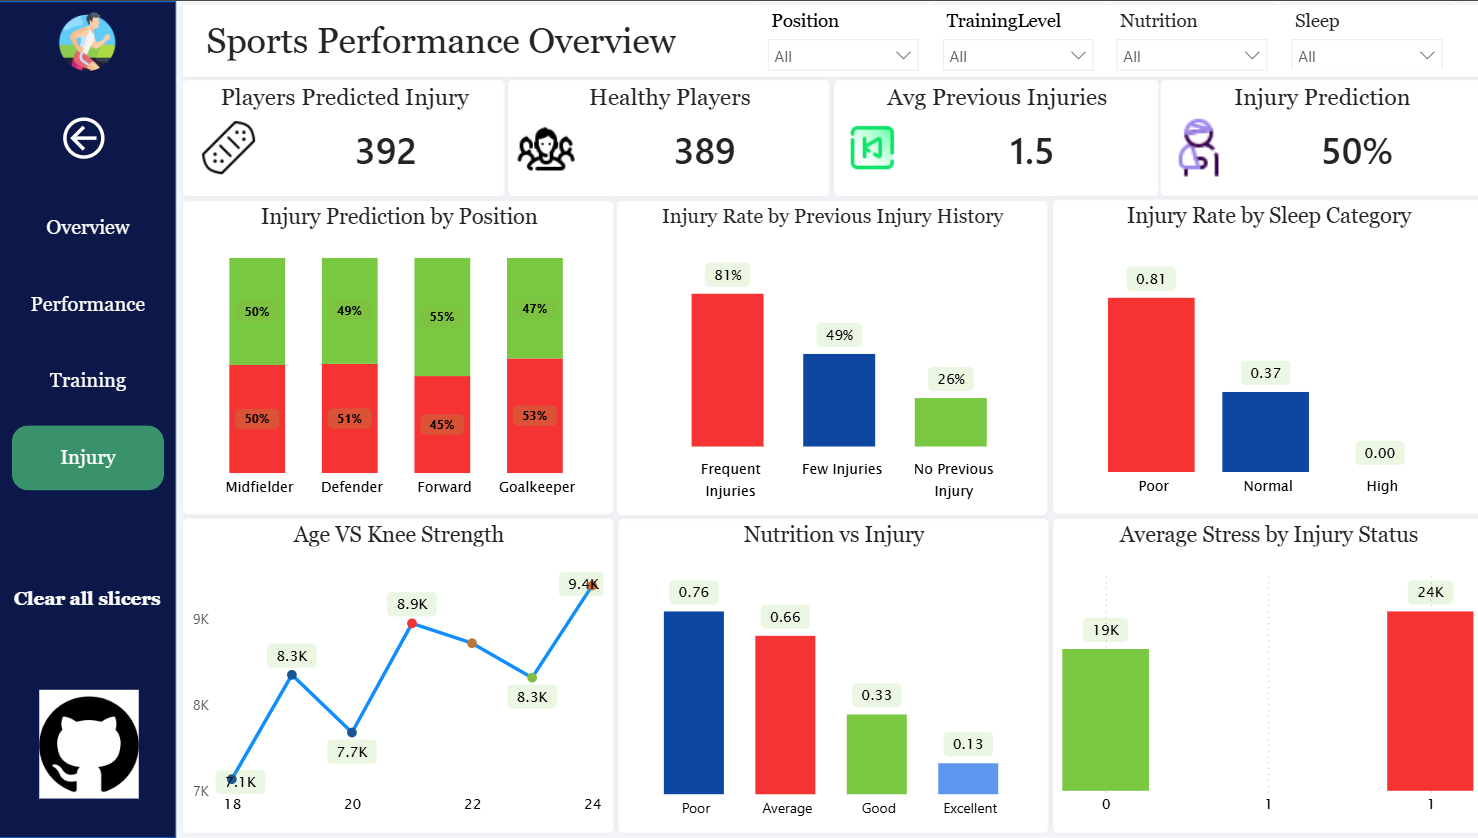

Layout of this report page (visuals, bound fields, positions):
{"tool":"powerbi","page":{"name":"Injury","canvas":[1280,720],"ordinal":3},"visuals":[{"type":"shape","box":[0,0,153.2,720.2],"z":0},{"type":"pageNavigator","box":[12.3,166.9,131.5,257],"z":1000},{"type":"shape","box":[159.3,3.6,1118.4,62],"z":2000},{"type":"slicer","title":"Training Level Distribution","fields":{"Values":["Dim_Position.Position"]},"box":[650,0,155,63.9],"z":3000},{"type":"slicer","title":"Training Level Distribution","fields":{"Values":["Dim_TrainingLevel.TrainingLevel"]},"box":[800,0,155,62.7],"z":4000},{"type":"slicer","title":"Training Level Distribution","fields":{"Values":["Dim_Nutrition.Nutrition_Category"]},"box":[950,0,155,63.9],"z":5000},{"type":"slicer","title":"Training Level Distribution","fields":{"Values":["Dim_SleepCategory.Sleep_Category"]},"box":[1100,0,155,60.3],"z":6000},{"type":"cardVisual","title":"Players Predicted Injury","fields":{"Data":["All Measures.Players Predicted Injury"]},"box":[159.3,68,277,100],"z":7000},{"type":"cardVisual","title":"Healthy Players","fields":{"Data":["All Measures.Healthy Players"]},"box":[439,67.4,277,100],"z":8000},{"type":"cardVisual","title":"Avg Previous Injuries","fields":{"Data":["All Measures.Avg Previous Injuries"]},"box":[719,67.4,279,100],"z":9000},{"type":"cardVisual","title":"Injury Prediction","fields":{"Data":["All Measures.Injury Prediction"]},"box":[1000,67.4,277,100],"z":10000},{"type":"hundredPercentStackedColumnChart","title":"Injury Prediction by Position","fields":{"Category":["Dim_Position.Position"],"Series":["Fact_PlayerPerformance.Injury_Next_Season"],"Y":["All Measures.Players"]},"box":[159.1,171.8,370.3,269.8],"z":11000},{"type":"columnChart","title":"Injury Rate by Sleep Category","fields":{"Category":["Dim_SleepCategory.Sleep_Category"],"Y":["All Measures.Injury Rate"]},"box":[907.2,171.3,370,270],"z":12000},{"type":"clusteredColumnChart","title":"Nutrition vs Injury","fields":{"Category":["Dim_Nutrition.Nutrition_Category"],"Y":["All Measures.Injury Rate"]},"box":[533,445,370,270],"z":13000},{"type":"lineChart","title":"Age VS Healthy Players","fields":{"Category":["Dim_Player.Age"],"Y":["All Measures.Healthy Players"]},"box":[159,445,370,270],"z":14000},{"type":"image","box":[14,9.3,125.6,50],"z":15000},{"type":"columnChart","title":"Injury Rate by Previous Injury History","fields":{"Category":["Dim_InjuryHistory.Injury_History"],"Y":["All Measures.Injury Rate"]},"box":[532,171.8,370,270],"z":16000},{"type":"columnChart","title":"Average Stress by Injury Status","fields":{"Category":["Fact_PlayerPerformance.Injury_Next_Season"],"Y":["Sum(Fact_PlayerPerformance.Stress_Level_Score)"]},"box":[907.4,445.4,370,270],"z":17000},{"type":"actionButton","box":[50.3,94.5,57.7,46.6],"z":18000},{"type":"actionButton","box":[0,489.6,153.4,50.3],"z":19000},{"type":"image","box":[35.6,592.6,85.9,93.3],"z":20000}]}

Visuals, with their boxes on the page's 1280x720 design canvas (x1, y1, x2, y2). These are canvas units, not pixel positions in the 1478x838 screenshot, which may show the page scaled, cropped or inside an application window:
shape: box=[0, 0, 153, 720]
pageNavigator: box=[12, 167, 144, 424]
shape: box=[159, 4, 1278, 66]
"Training Level Distribution" slicer: box=[650, 0, 805, 64]
"Training Level Distribution" slicer: box=[800, 0, 955, 63]
"Training Level Distribution" slicer: box=[950, 0, 1105, 64]
"Training Level Distribution" slicer: box=[1100, 0, 1255, 60]
"Players Predicted Injury" cardVisual: box=[159, 68, 436, 168]
"Healthy Players" cardVisual: box=[439, 67, 716, 167]
"Avg Previous Injuries" cardVisual: box=[719, 67, 998, 167]
"Injury Prediction" cardVisual: box=[1000, 67, 1277, 167]
"Injury Prediction by Position" hundredPercentStackedColumnChart: box=[159, 172, 529, 442]
"Injury Rate by Sleep Category" columnChart: box=[907, 171, 1277, 441]
"Nutrition vs Injury" clusteredColumnChart: box=[533, 445, 903, 715]
"Age VS Healthy Players" lineChart: box=[159, 445, 529, 715]
image: box=[14, 9, 140, 59]
"Injury Rate by Previous Injury History" columnChart: box=[532, 172, 902, 442]
"Average Stress by Injury Status" columnChart: box=[907, 445, 1277, 715]
actionButton: box=[50, 94, 108, 141]
actionButton: box=[0, 490, 153, 540]
image: box=[36, 593, 122, 686]
